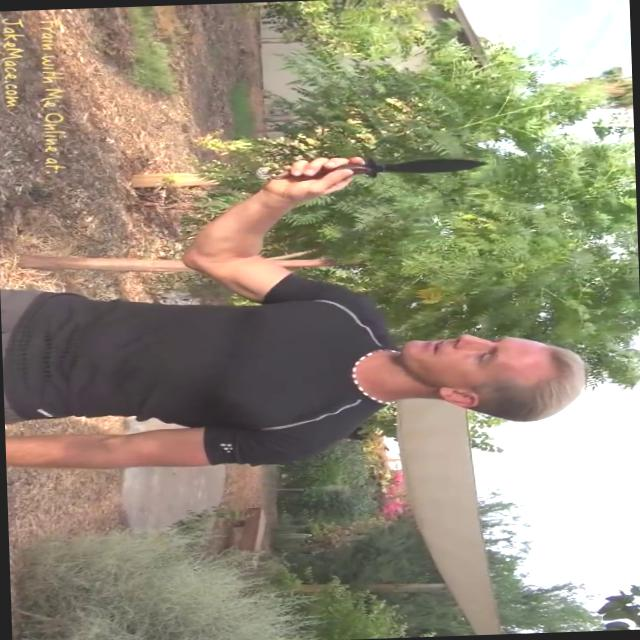knife: (256, 144, 512, 191)
